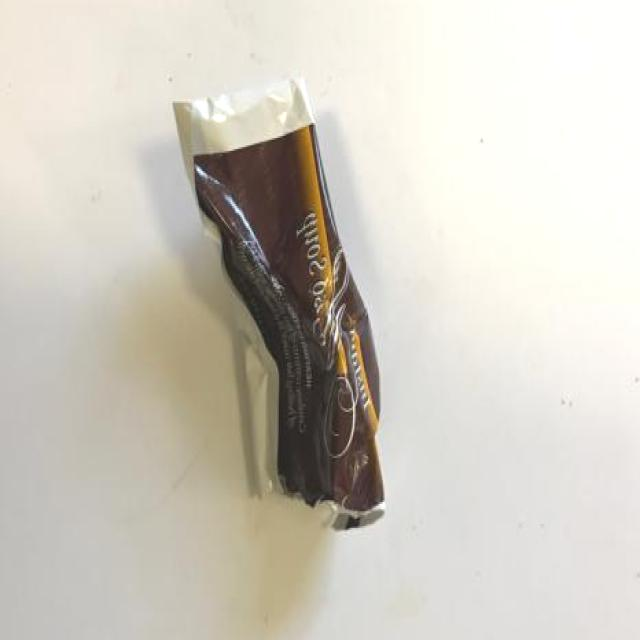giay_goi: (190, 127, 383, 527)
